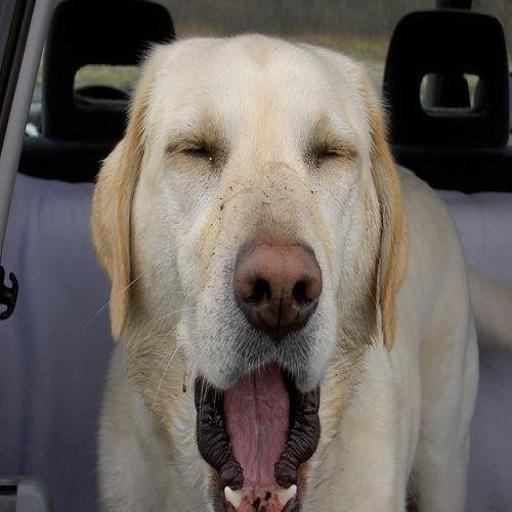dog_face: (92, 37, 396, 498)
